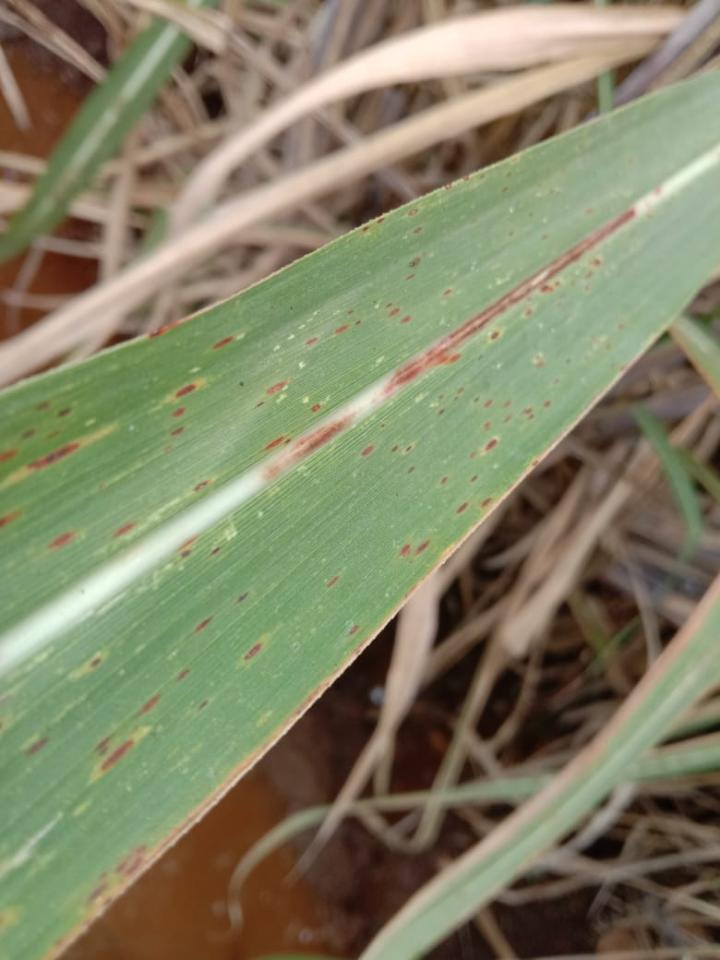RedRot: (378, 201, 641, 400), (252, 407, 366, 488), (648, 181, 671, 199)
Rust: (355, 374, 563, 525), (12, 663, 203, 789), (0, 385, 110, 531), (347, 155, 519, 241), (39, 839, 157, 959), (478, 251, 617, 349), (294, 289, 422, 353), (158, 371, 228, 445), (40, 504, 145, 552), (169, 528, 235, 566), (247, 374, 300, 417), (500, 209, 551, 246), (197, 324, 253, 354), (386, 529, 434, 562), (397, 247, 424, 292), (238, 632, 274, 662), (254, 434, 296, 459), (182, 470, 216, 500), (187, 607, 215, 643), (81, 647, 114, 674), (320, 567, 344, 596), (435, 282, 458, 306), (339, 617, 364, 637), (526, 352, 547, 372)
